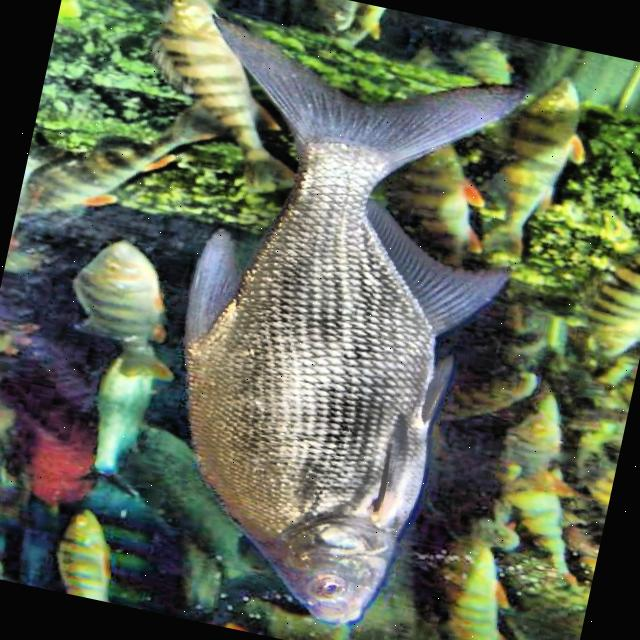fish: (106, 5, 544, 638), (117, 0, 337, 201), (477, 65, 603, 269), (52, 230, 200, 386), (80, 352, 162, 478), (564, 229, 640, 362), (429, 540, 528, 640), (45, 504, 126, 602)
